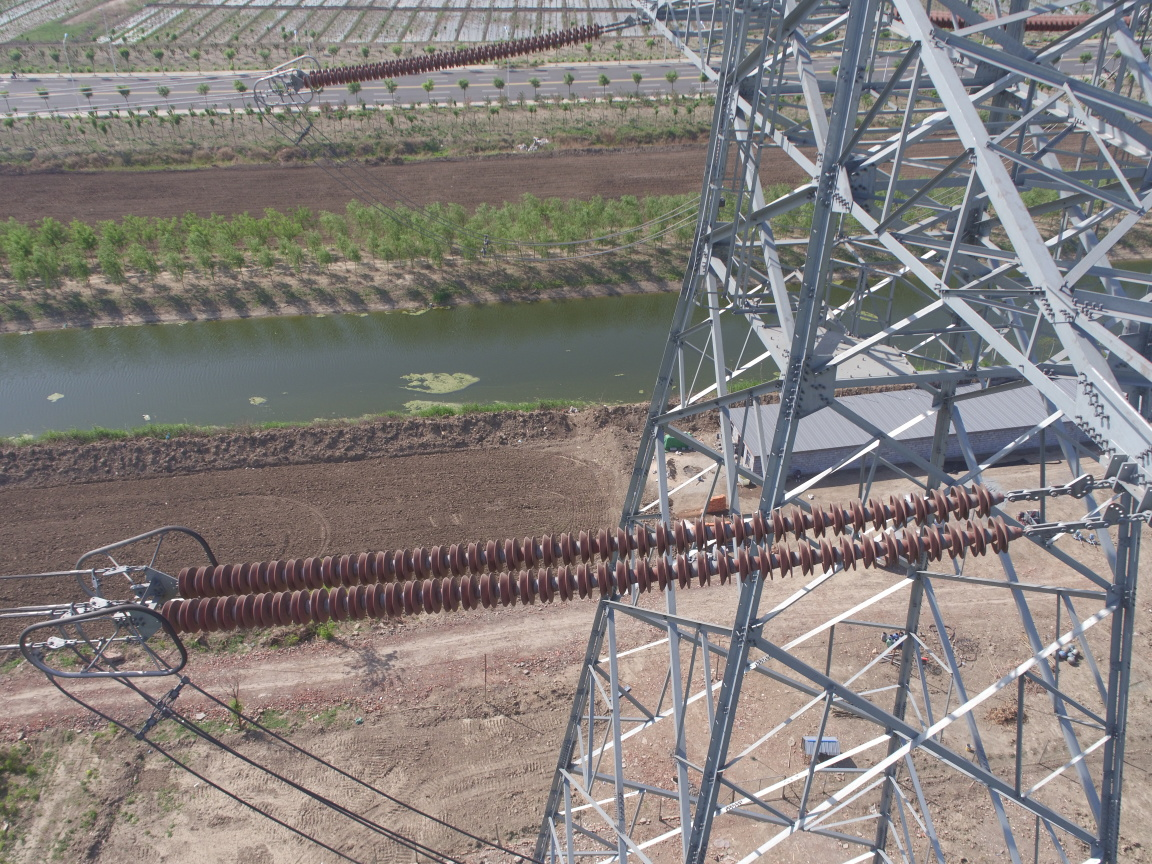insulator: (147, 479, 1062, 638), (295, 20, 617, 90)
